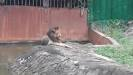lion: (40, 27, 68, 52)
